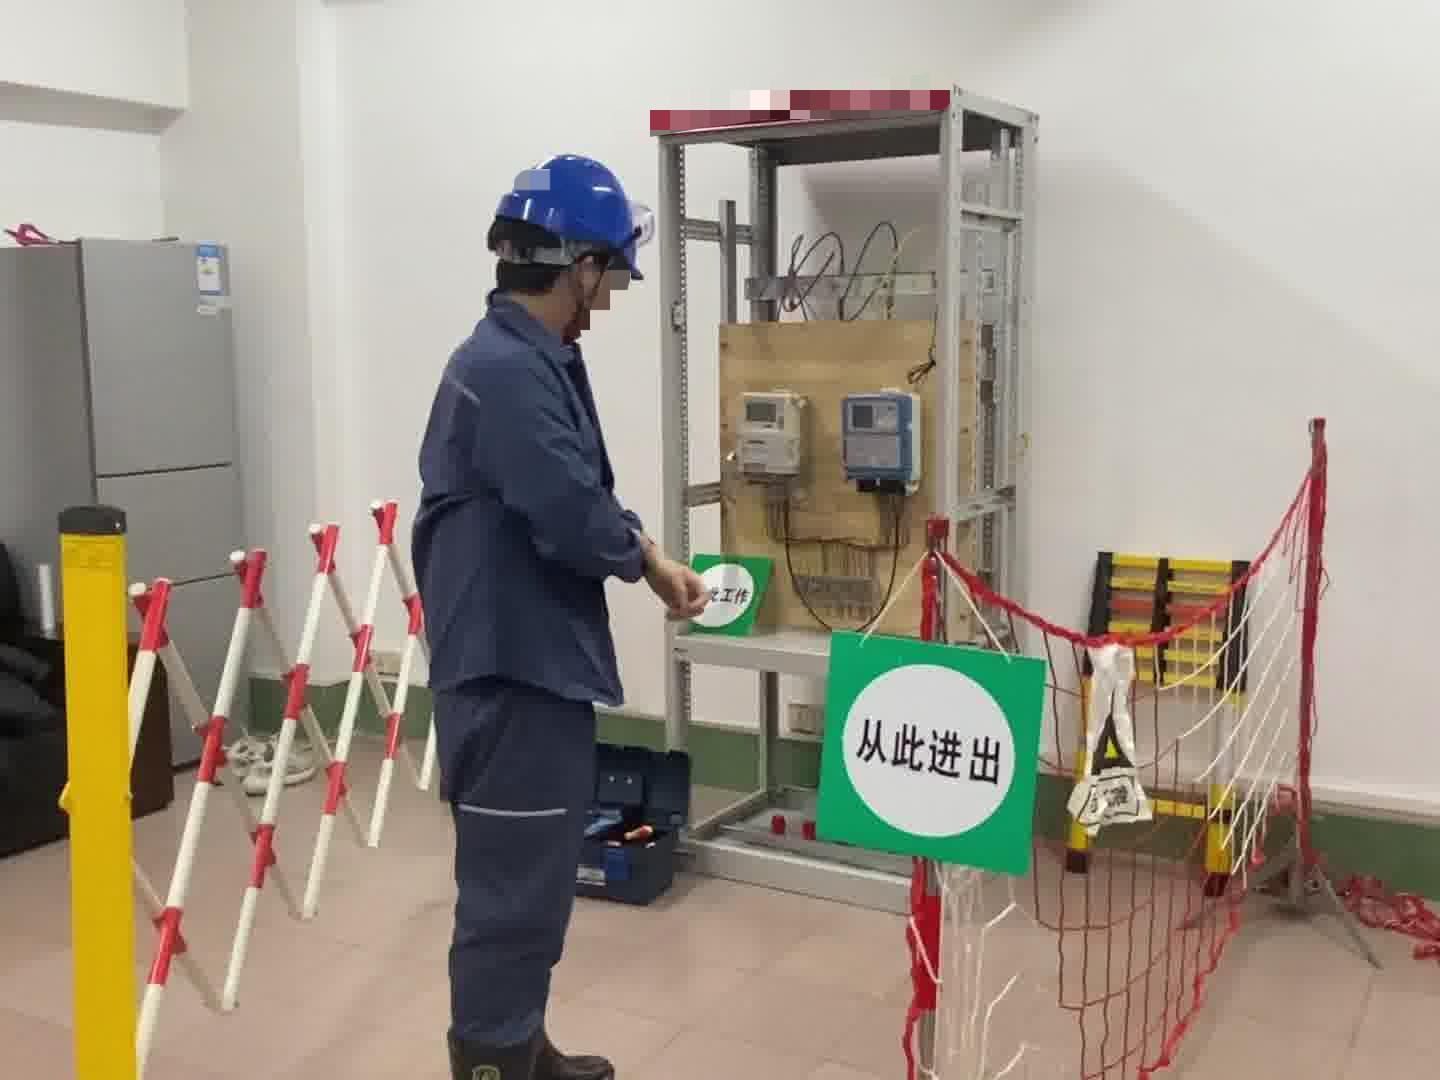halt: (484, 155, 647, 335)
inear: (560, 245, 608, 318)
